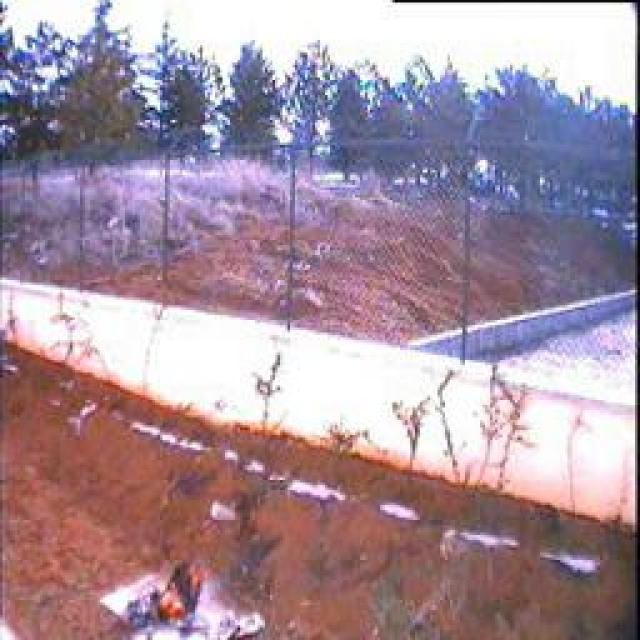Fire: (136, 556, 214, 624)
